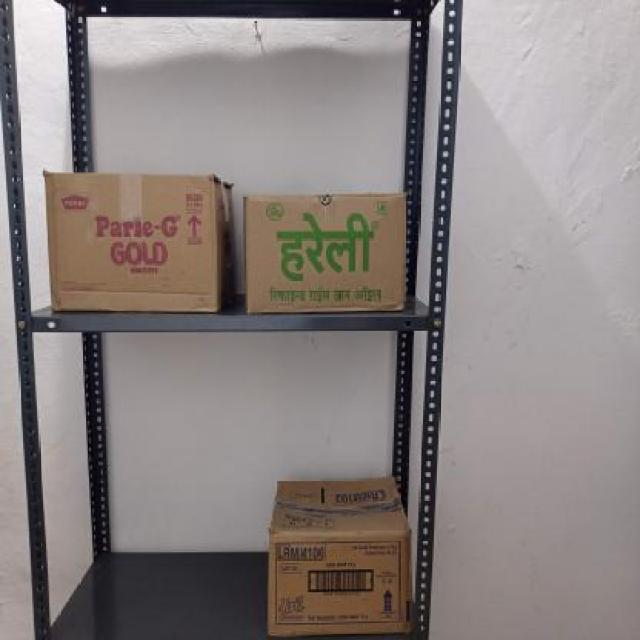box: (44, 176, 216, 310), (242, 194, 409, 314), (266, 532, 412, 636)
